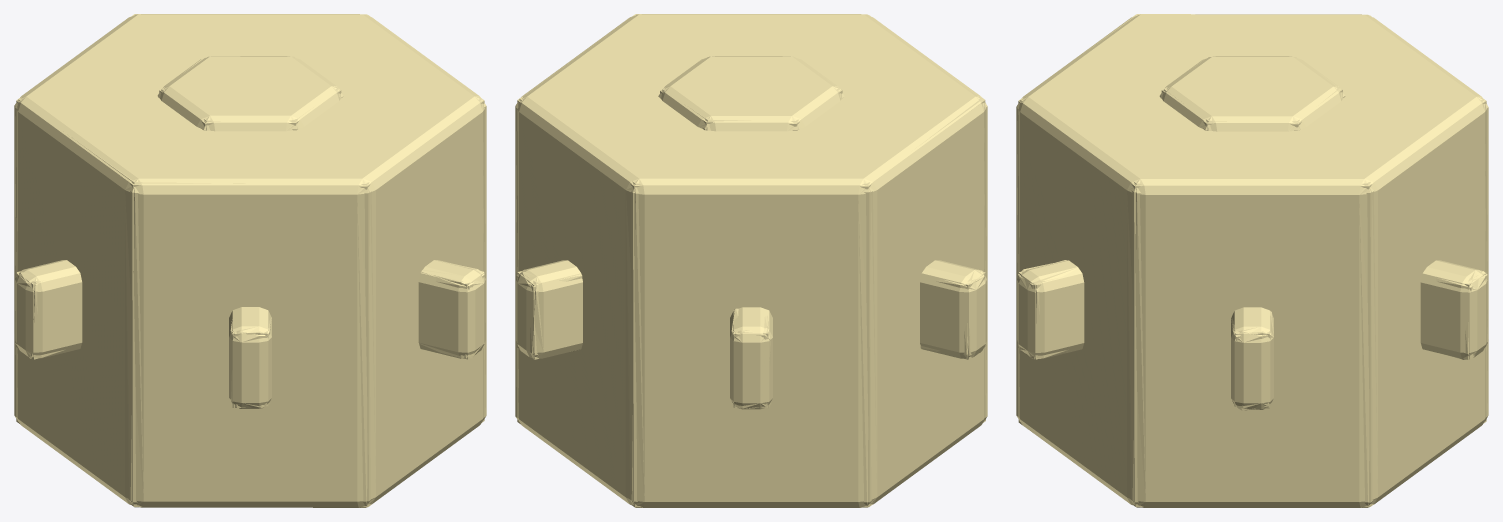
File: SM_Elite.fbx
3 renders of one model, left to right at view 1: azimuth 30°, elevation 25°; view 2: azimuth 150°, elevation 25°; view 3: azimuth 270°, elevation 25°, orthographic.
Visible parts, largest first — view 1: SM_Elite, LOD1_SM_Elite, LOD2_SM_Elite; view 2: SM_Elite, LOD1_SM_Elite, LOD2_SM_Elite; view 3: SM_Elite, LOD1_SM_Elite, LOD2_SM_Elite.
Part boxes in pixels (x1,y1,x2,y2): SM_Elite: (15, 14, 485, 507); LOD1_SM_Elite: (15, 14, 485, 506); LOD2_SM_Elite: (14, 14, 486, 507); SM_Elite: (516, 14, 986, 507); LOD1_SM_Elite: (516, 14, 986, 505); LOD2_SM_Elite: (515, 14, 987, 507); SM_Elite: (1017, 14, 1487, 507); LOD1_SM_Elite: (1017, 14, 1488, 507); LOD2_SM_Elite: (1016, 14, 1488, 507).
Bounding box in the file's own units: 0.4218 × 0.3069 × 0.376.
